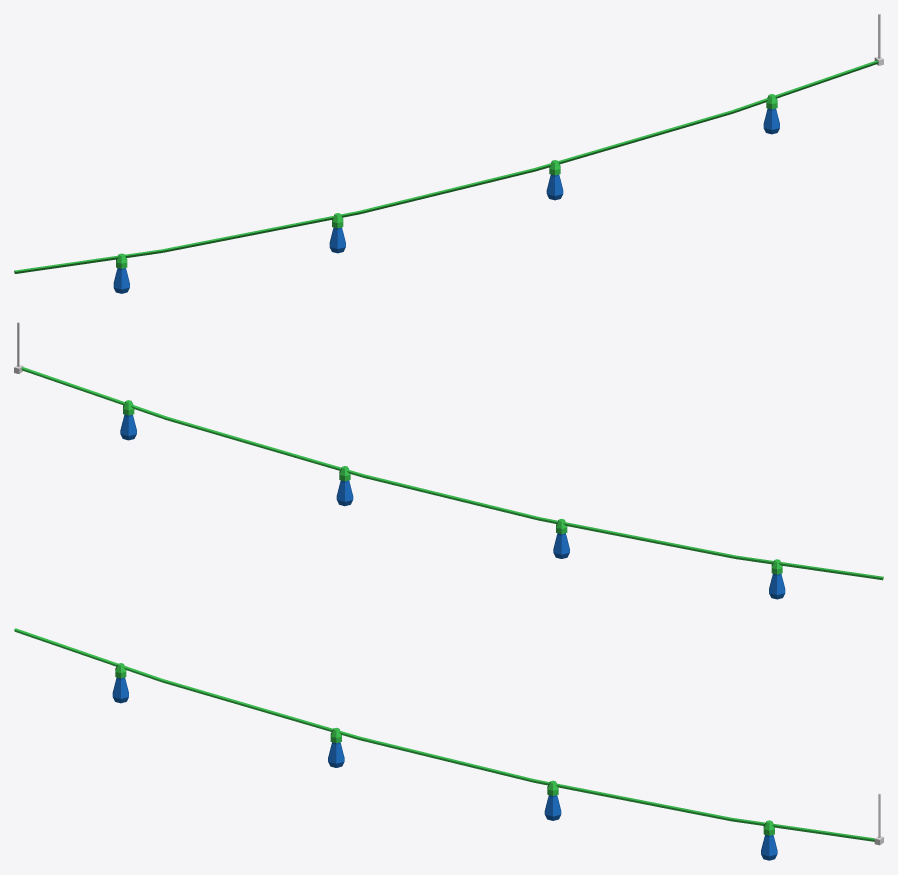
Rendered from SM_rope_lamps2.fbx.
The picture shows the model from 3 angles, top to bottom: view 1: azimuth 30°, elevation 25°; view 2: azimuth 150°, elevation 25°; view 3: azimuth 330°, elevation 25°; orthographic projection.
Parts seen in each view (by area): view 1: light_5; view 2: light_5; view 3: light_5.
Part boxes in pixels (<box>): light_5: <box>14,60,878,293</box>; light_5: <box>21,367,883,599</box>; light_5: <box>14,628,874,860</box>.
Bounding box in the file's own units: 401 × 46.63 × 6.61.
